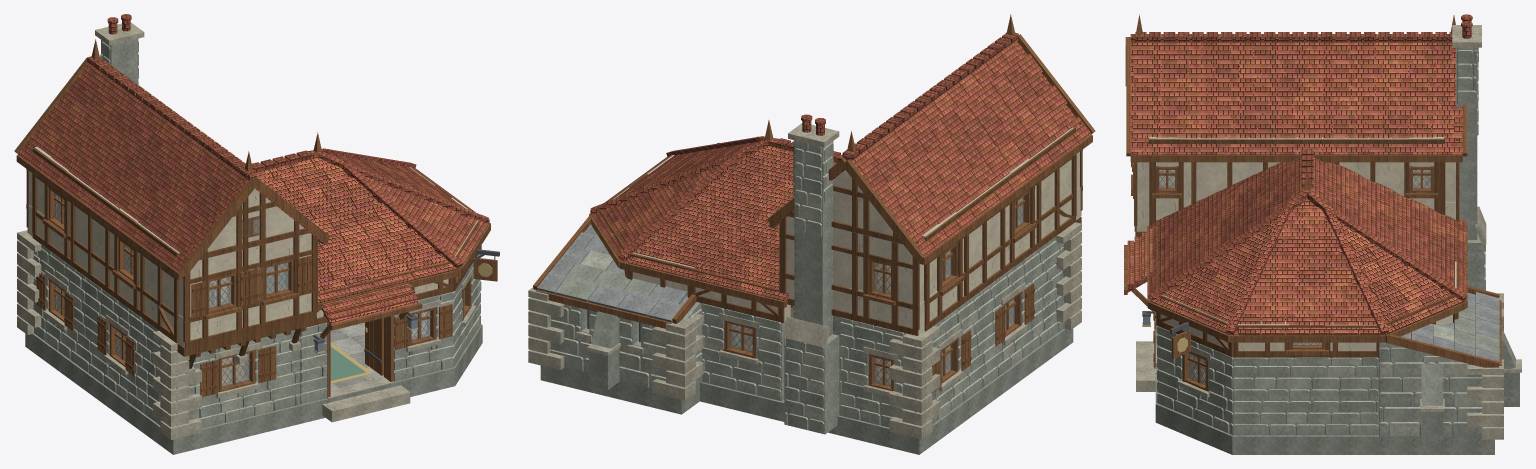
File: bank.glb
3 renders of one model, left to right at view 1: azimuth 30°, elevation 25°; view 2: azimuth 150°, elevation 25°; view 3: azimuth 270°, elevation 25°, orthographic. The views are drawn at different scales.
Parts seen in each view (by area): view 1: Bank_RoofTiles, Bank_ShellFacing, Bank_UpperShellTimber, Bank_RoofTrim, Bank_UpperShell, Bank_ShellWindows, Bank_FloorPlinth, Bank_ShellQuoins, Bank_UpperShellWindows, Bank_RoofHood, Bank_UpperChimney, Bank_ShellStone (+12 smaller); view 2: Bank_RoofTiles, Bank_ShellFacing, Bank_RoofTrim, Bank_ShellQuoins, Bank_UpperShellTimber, Bank_UpperShell, Bank_FloorPlinth, Bank_UpperChimney, Bank_ShellChimneyBase, Bank_RoofSlabStones, Bank_ShellWindows, Bank_ShellStone (+7 smaller); view 3: Bank_RoofTiles, Bank_ShellFacing, Bank_RoofTrim, Bank_FloorPlinth, Bank_ShellStone, Bank_UpperShell, Bank_UpperShellTimber, Bank_UpperChimney, Bank_RoofSlabStones, Bank_ShellFriezeTimber, Bank_RoofSlab, Bank_ShellQuoins (+8 smaller).
Part boxes in pixels (<box>): Bank_RoofTiles: <box>18,62,488,303</box>; Bank_ShellFacing: <box>26,232,481,428</box>; Bank_UpperShellTimber: <box>26,142,318,348</box>; Bank_RoofTrim: <box>14,39,490,310</box>; Bank_UpperShell: <box>28,146,311,347</box>; Bank_ShellWindows: <box>36,267,476,398</box>; Bank_FloorPlinth: <box>25,324,482,454</box>; Bank_ShellQuoins: <box>17,230,201,439</box>; Bank_UpperShellWindows: <box>42,187,312,319</box>; Bank_RoofHood: <box>319,277,422,330</box>; Bank_UpperChimney: <box>95,14,144,85</box>; Bank_ShellStone: <box>37,248,477,428</box>; Bank_RoofTiles: <box>591,39,1091,300</box>; Bank_ShellFacing: <box>549,237,1065,427</box>; Bank_RoofTrim: <box>533,14,1095,328</box>; Bank_ShellQuoins: <box>528,222,1081,439</box>; Bank_UpperShellTimber: <box>779,122,1082,335</box>; Bank_UpperShell: <box>786,127,1080,335</box>; Bank_FloorPlinth: <box>540,328,1073,454</box>; Bank_UpperChimney: <box>788,114,839,321</box>; Bank_ShellChimneyBase: <box>783,315,839,434</box>; Bank_RoofSlabStones: <box>537,232,687,322</box>; Bank_ShellWindows: <box>575,282,1034,396</box>; Bank_ShellStone: <box>552,240,1062,425</box>; Bank_RoofTiles: <box>1131,42,1465,335</box>; Bank_ShellFacing: <box>1156,326,1482,436</box>; Bank_RoofTrim: <box>1125,14,1501,367</box>; Bank_FloorPlinth: <box>1155,329,1494,454</box>; Bank_ShellStone: <box>1158,331,1519,446</box>; Bank_UpperShell: <box>1136,136,1455,231</box>; Bank_UpperShellTimber: <box>1134,84,1459,231</box>; Bank_UpperChimney: <box>1452,14,1481,220</box>; Bank_RoofSlabStones: <box>1411,292,1499,361</box>; Bank_ShellFriezeTimber: <box>1155,220,1459,357</box>; Bank_RoofSlab: <box>1130,43,1474,365</box>; Bank_ShellQuoins: <box>1420,293,1521,439</box>.
Bounding box in the file's own units: 12.43 × 9.58 × 11.13.
26 materials, 17 textured.
